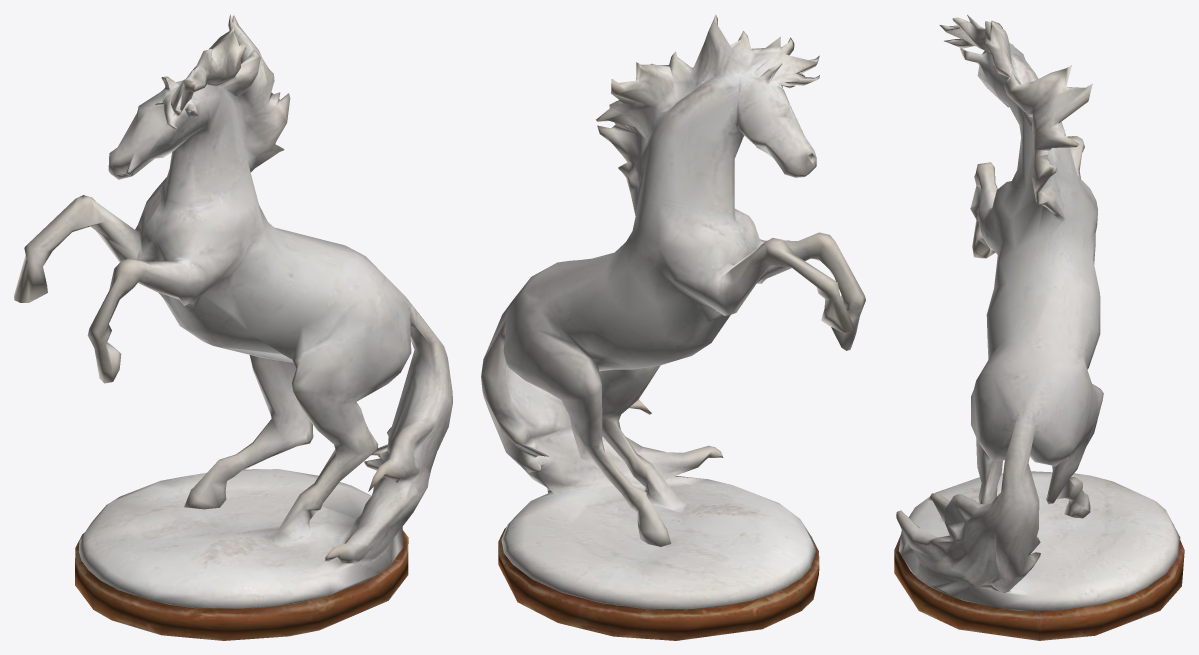
The model's file is horse_statue_01.glb.
3 renders of one model, left to right at view 1: azimuth 30°, elevation 25°; view 2: azimuth 150°, elevation 25°; view 3: azimuth 270°, elevation 25°, orthographic. The views are drawn at different scales.
Visible parts, largest first — view 1: horse_statue_01; view 2: horse_statue_01; view 3: horse_statue_01.
Boxes of the visible parts, <box> form: horse_statue_01: <box>14,14,452,640</box>; horse_statue_01: <box>481,14,865,640</box>; horse_statue_01: <box>894,14,1184,640</box>.
Size of the model in its own units: 0.1635 by 0.22 by 0.1078.
Materials: 2 (2 with a texture image).
